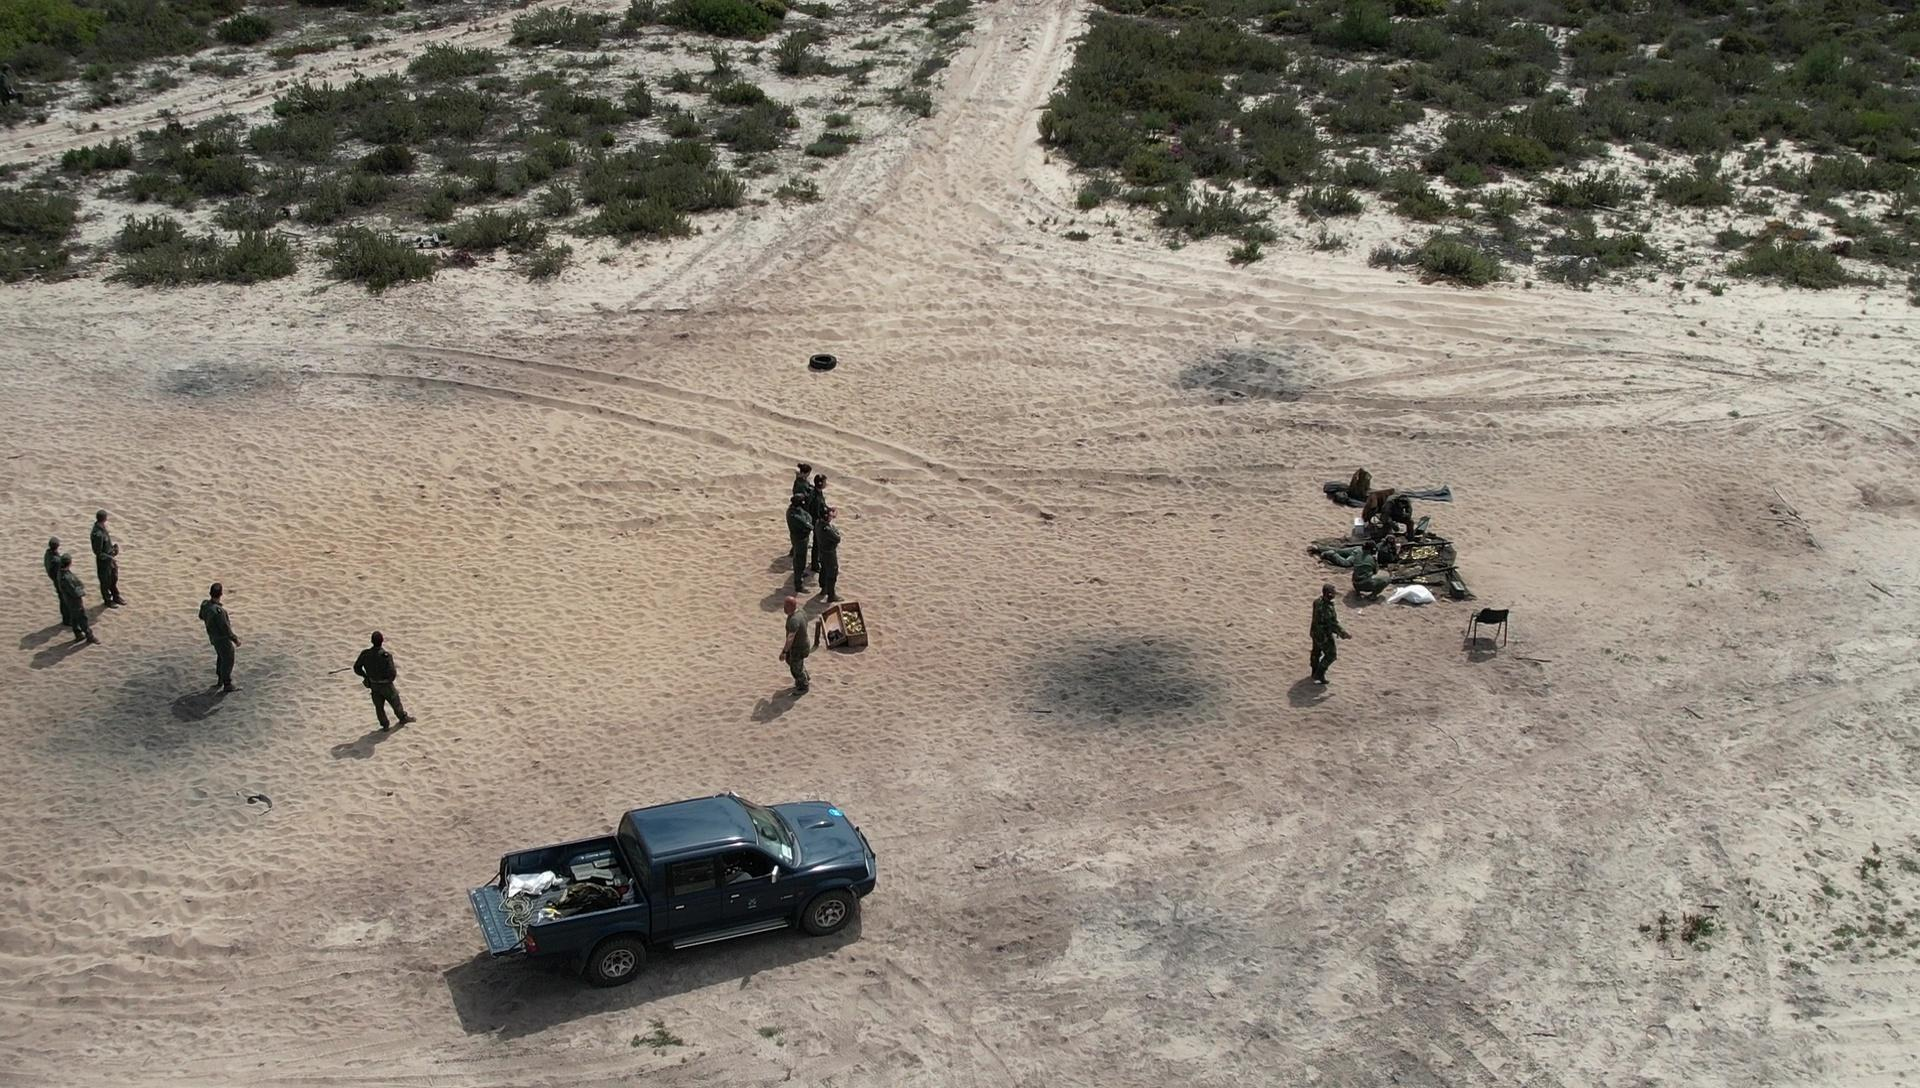Soldier: (345, 626, 419, 748), (1295, 580, 1356, 720), (42, 553, 108, 665), (193, 583, 253, 702), (775, 568, 837, 680), (1312, 528, 1455, 570), (84, 505, 135, 615), (790, 491, 840, 580), (790, 485, 829, 586), (1352, 533, 1389, 604), (1381, 485, 1414, 547)
